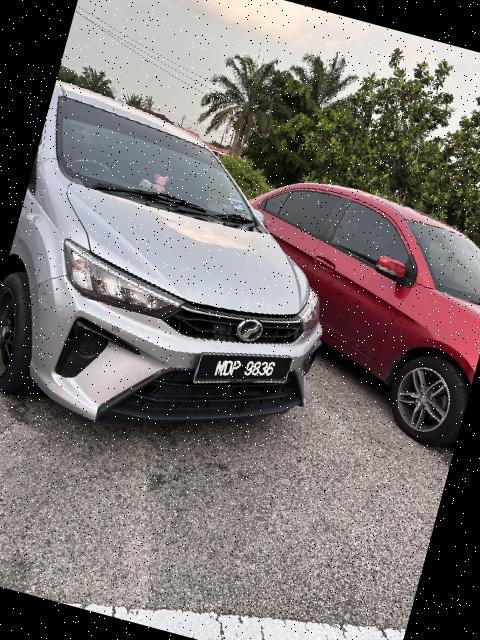License_Plate: (192, 333, 295, 411)
MDP9836: (192, 333, 295, 411)
car: (1, 65, 378, 482), (190, 148, 480, 457)
